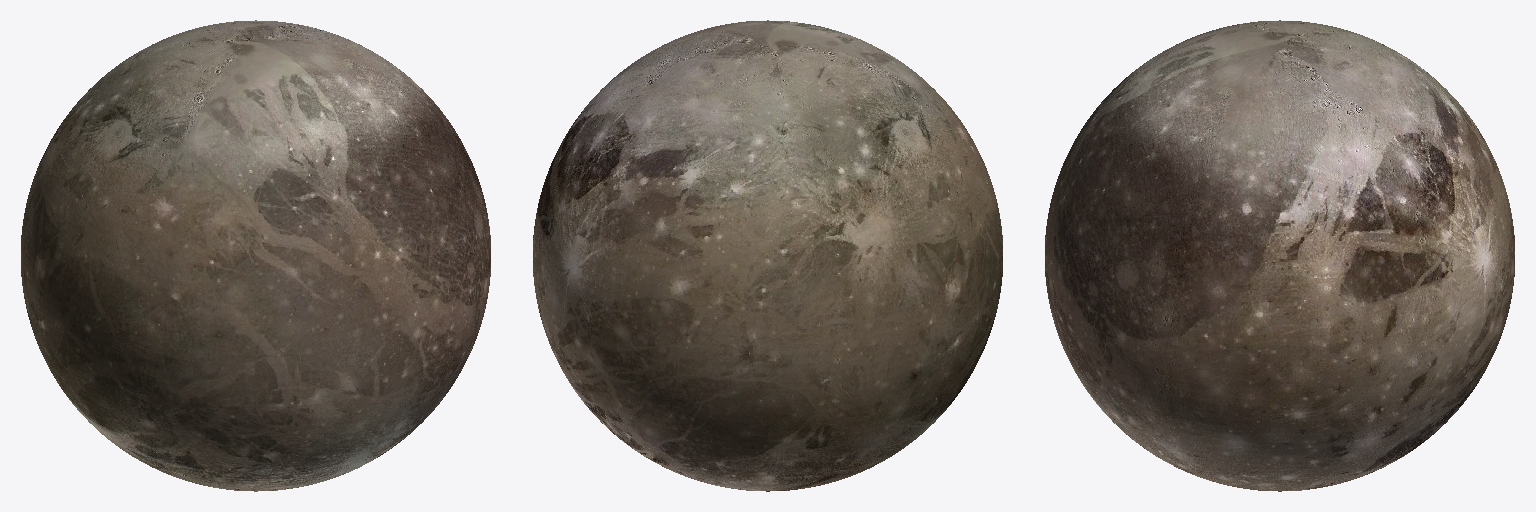
The picture shows the model from 3 angles: view 1: azimuth 30°, elevation 25°; view 2: azimuth 150°, elevation 25°; view 3: azimuth 270°, elevation 25°; orthographic projection.
Parts seen in each view (by area): view 1: cylindrically_mapped_sphere.001; view 2: cylindrically_mapped_sphere.001; view 3: cylindrically_mapped_sphere.001.
Part boxes in pixels (x1,y1,x2,y2): cylindrically_mapped_sphere.001: (21, 20, 490, 491); cylindrically_mapped_sphere.001: (533, 20, 1002, 491); cylindrically_mapped_sphere.001: (1045, 20, 1514, 491).
Bounding box in the file's own units: 1000 × 1000 × 1000.
Materials: 1 (1 with a texture image).